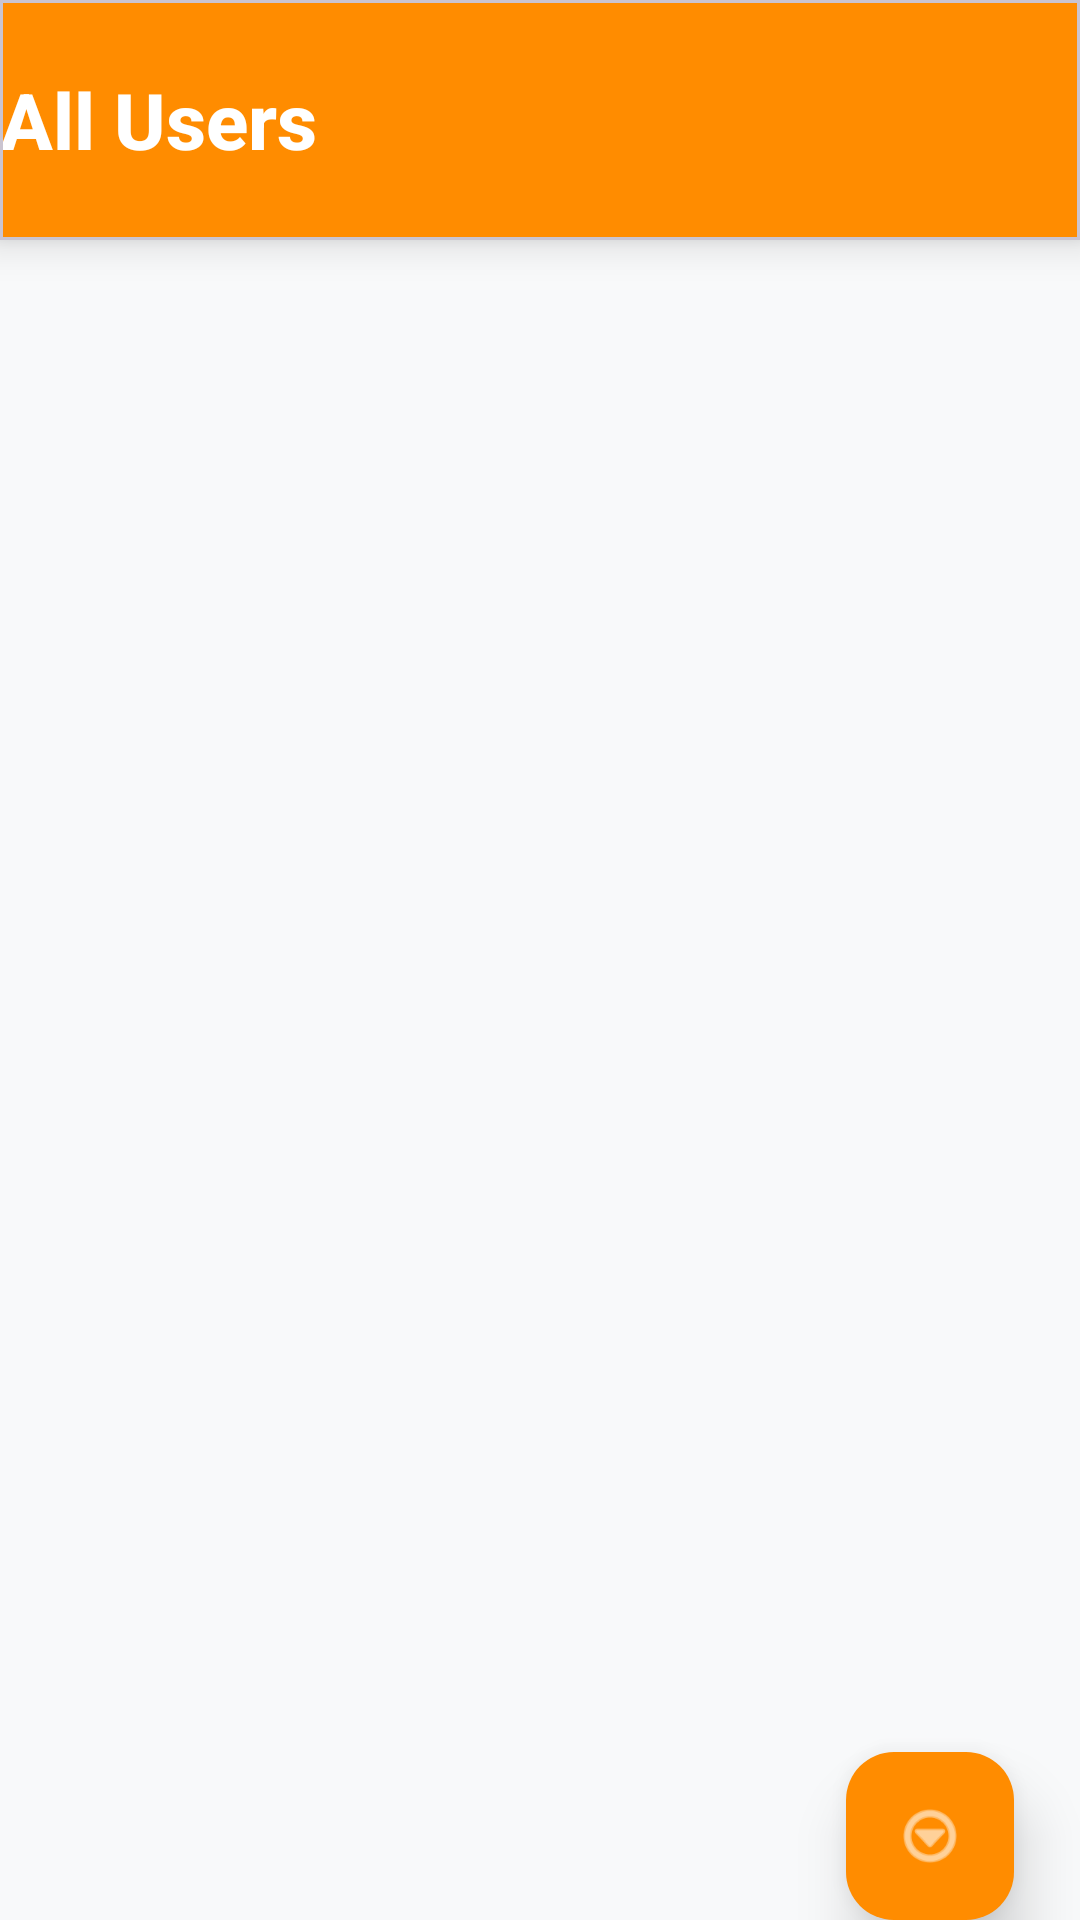

Icons on this 1080 x 1920 Android screen, each with its box as bbox=[x1, y1, x2, y2]:
Options: bbox=[846, 1752, 1014, 1920]
